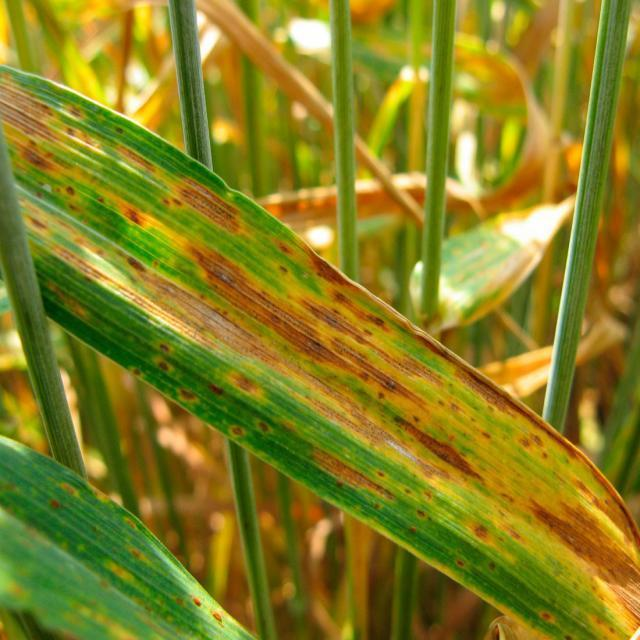Septoria: (8, 65, 630, 640)
